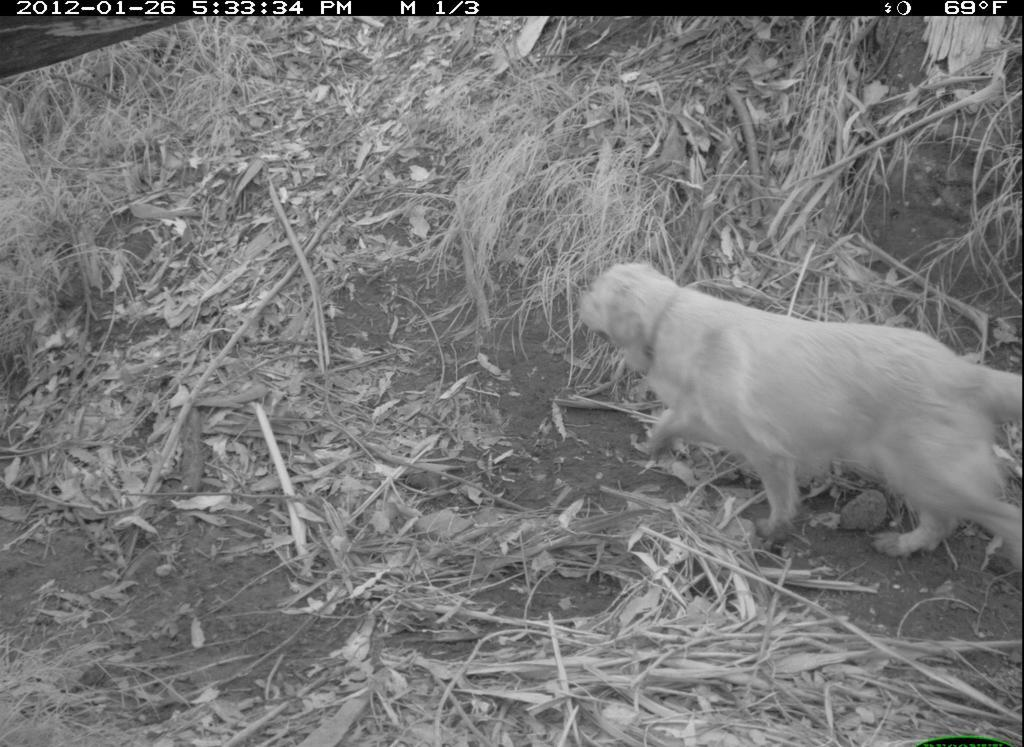dog: (571, 248, 1024, 591)
